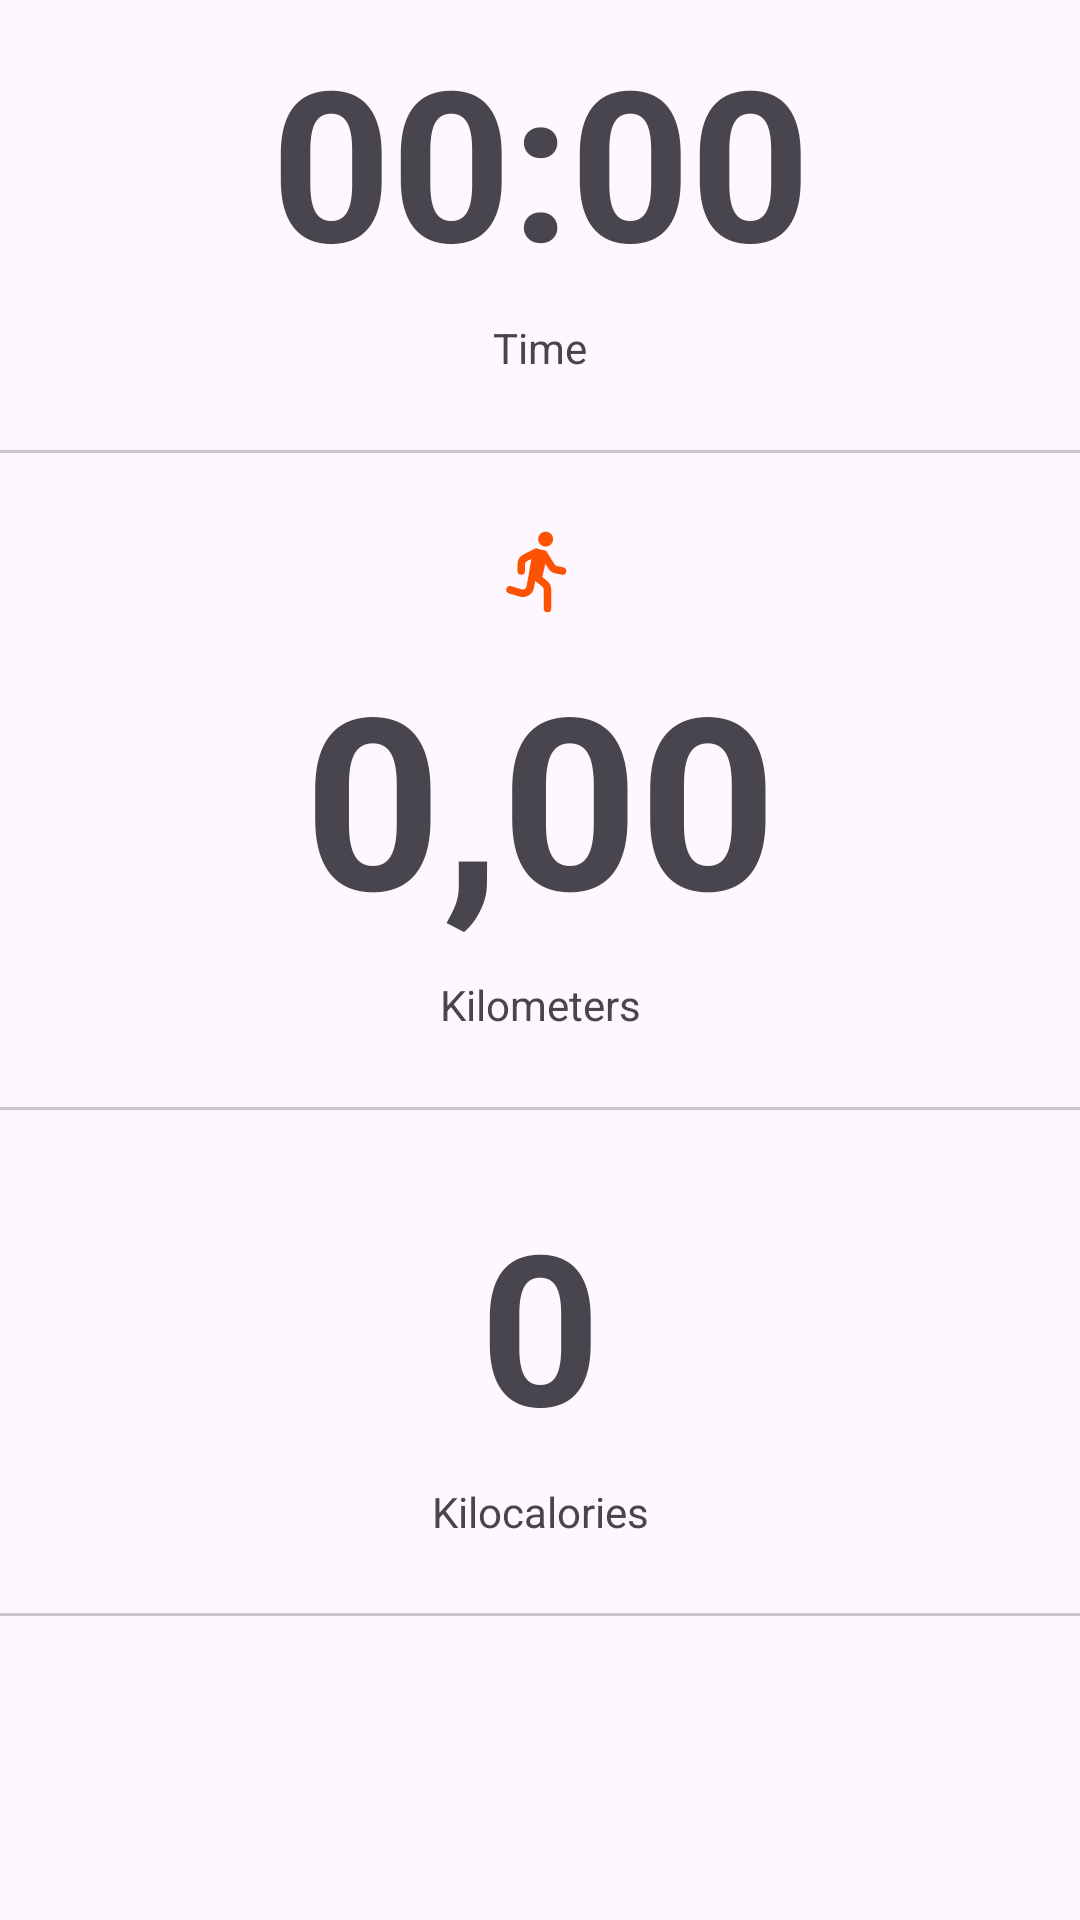

Named icons in this screenshot (1080w x 1920h) and their bounding boxes, (x1=x1, y1=y1, x2=x2, y2=y2):
runner: (x1=506, y1=531, x2=567, y2=613)
